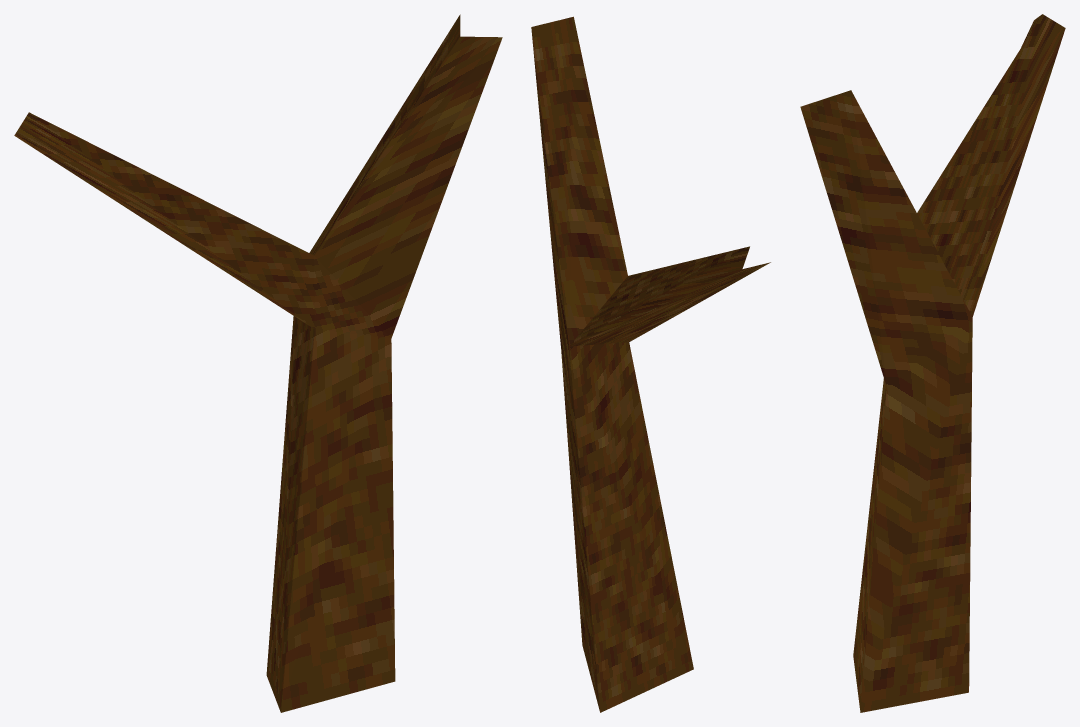
The model's file is treebranch07.glb.
The picture shows the model from 3 angles, left to right: view 1: azimuth 30°, elevation 25°; view 2: azimuth 150°, elevation 25°; view 3: azimuth 270°, elevation 25°; orthographic projection. The views are drawn at different scales.
Parts seen in each view (by area): view 1: treebranch07; view 2: treebranch07; view 3: treebranch07.
Boxes of the visible parts, bbox=[...] form: treebranch07: bbox=[14, 14, 502, 712]; treebranch07: bbox=[531, 16, 770, 712]; treebranch07: bbox=[800, 14, 1065, 712].
Size of the model in its own units: 377 by 652 by 235.
Materials: 1 (1 with a texture image).
